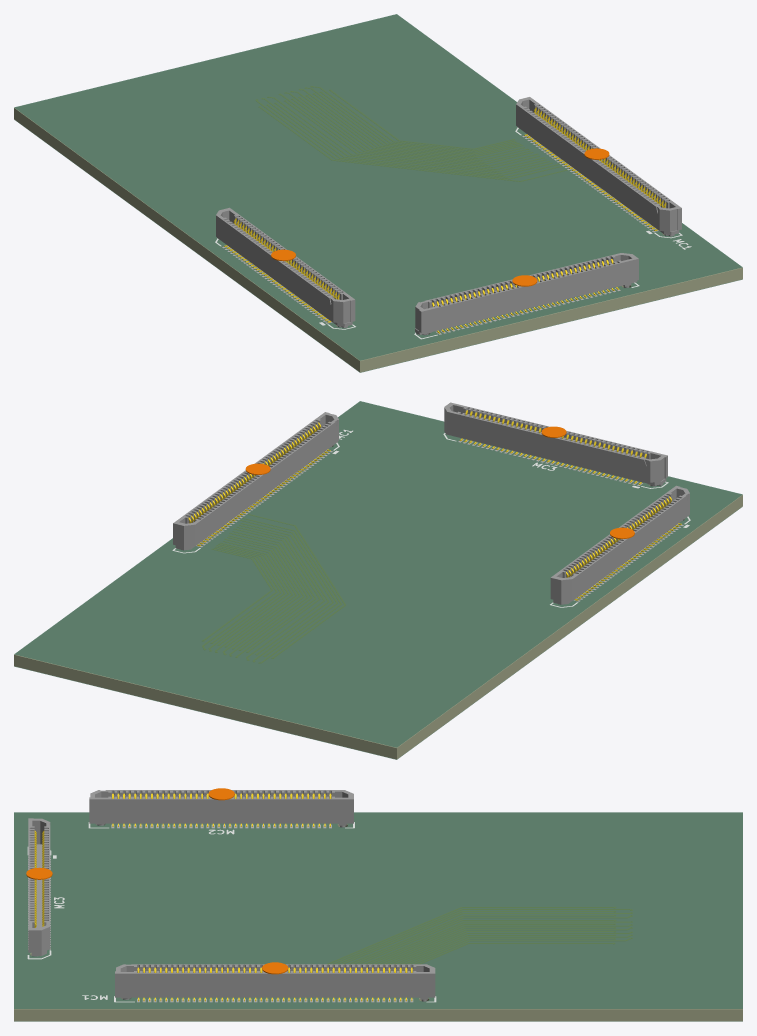
Rendered from Carrier.glb.
3 renders of one model, top to bottom at view 1: azimuth 30°, elevation 25°; view 2: azimuth 150°, elevation 25°; view 3: azimuth 270°, elevation 25°, orthographic. The views are drawn at different scales.
Visible parts, largest first — view 1: =>[0:1:1:17], =>[0:1:1:19], ERF6-40-03.5-L-DV-A-K-TR_H (×2), ERF6-50-03.5-L-DV-A-K-TR_H, =>[0:1:1:12], ERF6-40-03.5-L-DV-A-K-TR_P (×2), =>[0:1:1:13], ERF6-50-03.5-L-DV-A-K-TR_P, =>[0:1:1:18]; view 2: =>[0:1:1:17], =>[0:1:1:19], ERF6-40-03.5-L-DV-A-K-TR_H (×2), ERF6-50-03.5-L-DV-A-K-TR_H, =>[0:1:1:12], ERF6-40-03.5-L-DV-A-K-TR_P (×2), =>[0:1:1:13], ERF6-50-03.5-L-DV-A-K-TR_P, =>[0:1:1:18]; view 3: =>[0:1:1:17], =>[0:1:1:19], ERF6-40-03.5-L-DV-A-K-TR_H (×2), ERF6-50-03.5-L-DV-A-K-TR_H, =>[0:1:1:12], =>[0:1:1:13], ERF6-40-03.5-L-DV-A-K-TR_P (×2), ERF6-50-03.5-L-DV-A-K-TR_P, =>[0:1:1:18], =>[0:1:1:15].
Part boxes in pixels (x1,y1,x2,y2): =>[0:1:1:17]: (14,14,742,360); =>[0:1:1:19]: (14,15,742,372); ERF6-40-03.5-L-DV-A-K-TR_H (×2): (216,207,638,335); ERF6-50-03.5-L-DV-A-K-TR_H: (516,97,681,236); =>[0:1:1:12]: (256,86,565,181); ERF6-40-03.5-L-DV-A-K-TR_P (×2): (224,218,619,333); =>[0:1:1:13]: (222,135,658,334); ERF6-50-03.5-L-DV-A-K-TR_P: (524,107,666,230); =>[0:1:1:18]: (15,120,742,372); =>[0:1:1:17]: (14,401,742,747); =>[0:1:1:19]: (14,402,742,759); ERF6-40-03.5-L-DV-A-K-TR_H (×2): (444,402,689,604); ERF6-50-03.5-L-DV-A-K-TR_H: (173,412,338,550); =>[0:1:1:12]: (202,514,345,662); ERF6-40-03.5-L-DV-A-K-TR_P (×2): (459,410,681,600); =>[0:1:1:13]: (196,439,683,601); ERF6-50-03.5-L-DV-A-K-TR_P: (188,422,330,546); =>[0:1:1:18]: (14,507,741,759); =>[0:1:1:17]: (14,812,742,1008); =>[0:1:1:19]: (14,813,742,1021); ERF6-40-03.5-L-DV-A-K-TR_H (×2): (28,790,353,956); ERF6-50-03.5-L-DV-A-K-TR_H: (115,964,435,1001); =>[0:1:1:12]: (329,907,632,963); =>[0:1:1:13]: (28,824,413,1002); ERF6-40-03.5-L-DV-A-K-TR_P (×2): (34,793,331,927); ERF6-50-03.5-L-DV-A-K-TR_P: (137,967,412,1001); =>[0:1:1:18]: (14,1021,742,1021); =>[0:1:1:15]: (27,822,436,1002).
Bounding box in the file's own units: 0.053 × 0.00538 × 0.083.
